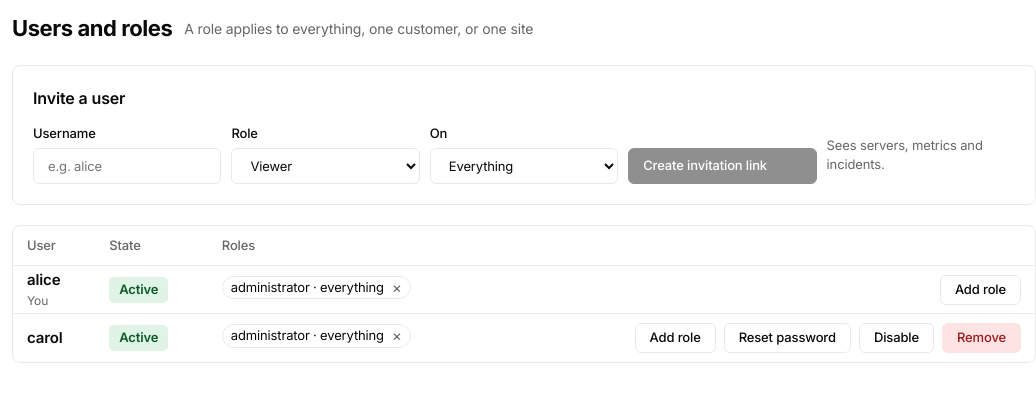
Test: UsersAdminPage › explains why a change was refused
Click the button named "Revoke administrator · everything from carol" at (397, 336), box [386, 326, 408, 345]
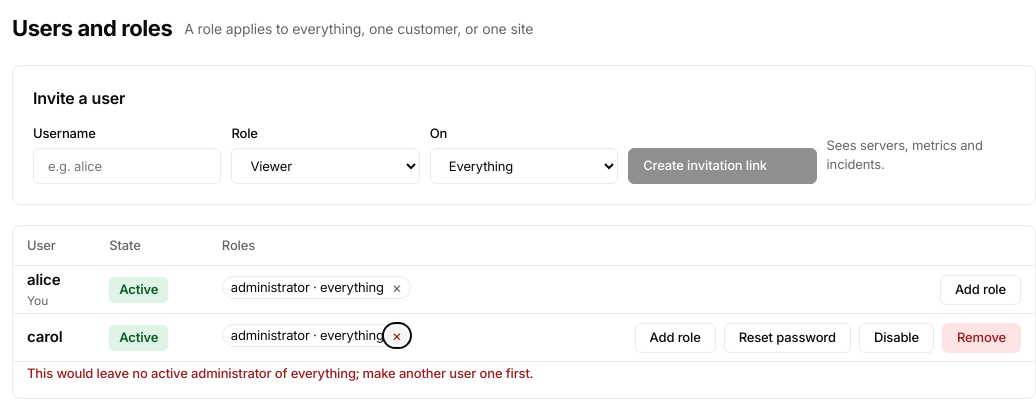
Expected: the message shows "This would leave no active administrator", [27, 365, 533, 381]
